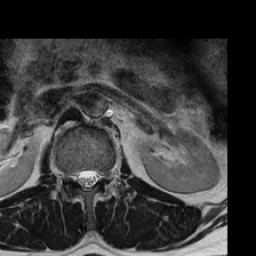CCS_normal: (83, 159, 91, 196)
LFS_normal: (100, 159, 108, 188)
LLS_normal: (91, 160, 100, 191)
RFS_normal: (67, 163, 75, 188)
RLS_normal: (75, 160, 83, 190)
